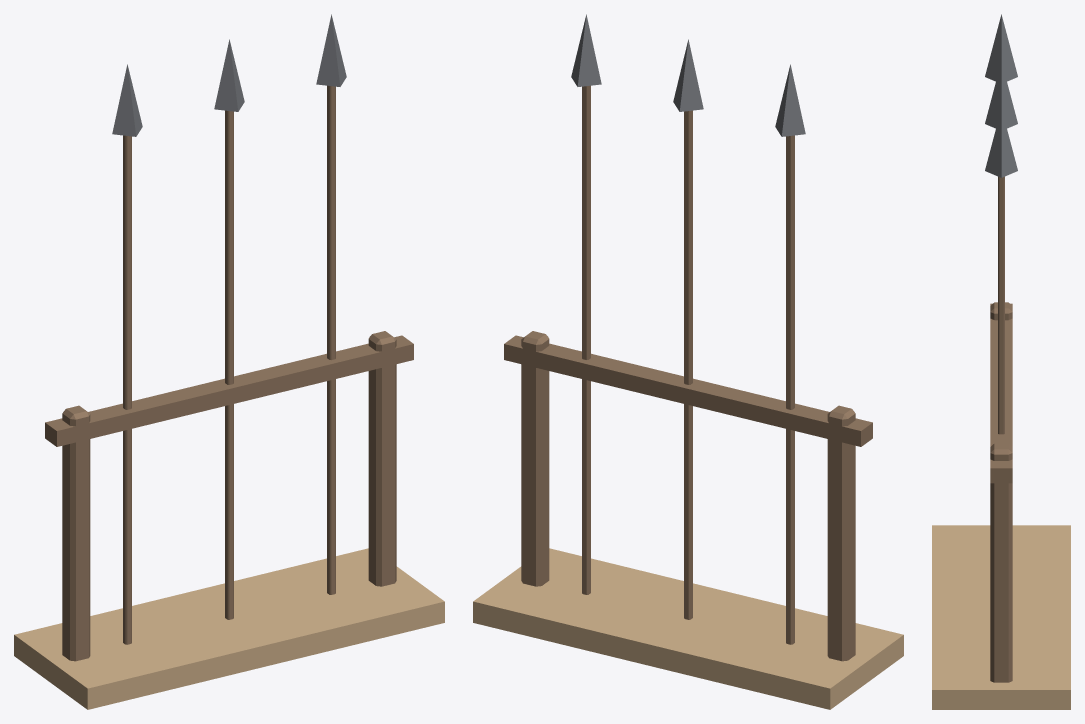
Rendered from feudal-japan-castle-town-spear-rack-069f77ef__26523.glb.
3 renders of one model, left to right at view 1: azimuth 30°, elevation 25°; view 2: azimuth 150°, elevation 25°; view 3: azimuth 270°, elevation 25°, orthographic. The views are drawn at different scales.
Visible parts, largest first — view 1: spear-rack; view 2: spear-rack; view 3: spear-rack.
Boxes of the visible parts, x1,y1,x2,y2 form: spear-rack: [14, 14, 444, 709]; spear-rack: [473, 14, 903, 709]; spear-rack: [932, 14, 1070, 709].
Bounding box in the file's own units: 1.4 × 2.25 × 0.4999.
